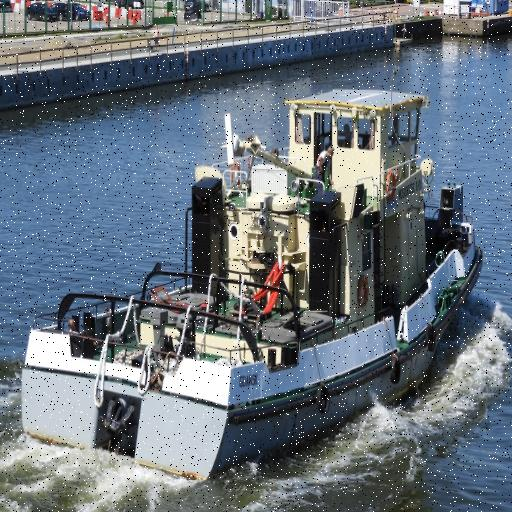tugboat: (17, 81, 488, 491)
